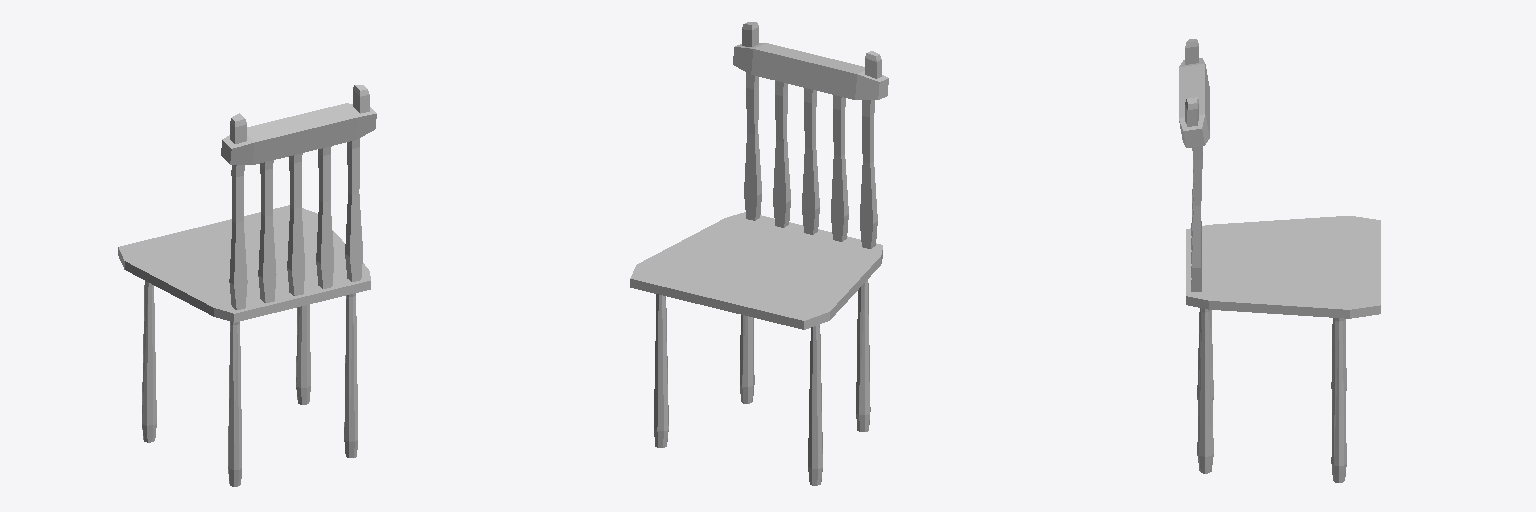
Rendered from Chairagain.obj.
3 views of the same model, side by side, from view 1: azimuth 30°, elevation 25°; view 2: azimuth 150°, elevation 25°; view 3: azimuth 270°, elevation 25° (orthographic).
Visible parts, largest first — view 1: back1; view 2: back1; view 3: back1.
Part boxes in pixels (x1,y1,x2,y2): back1: (118, 85, 376, 486); back1: (630, 22, 888, 485); back1: (1179, 39, 1380, 482).
Bounding box in the file's own units: 5.01 × 9.27 × 4.56.